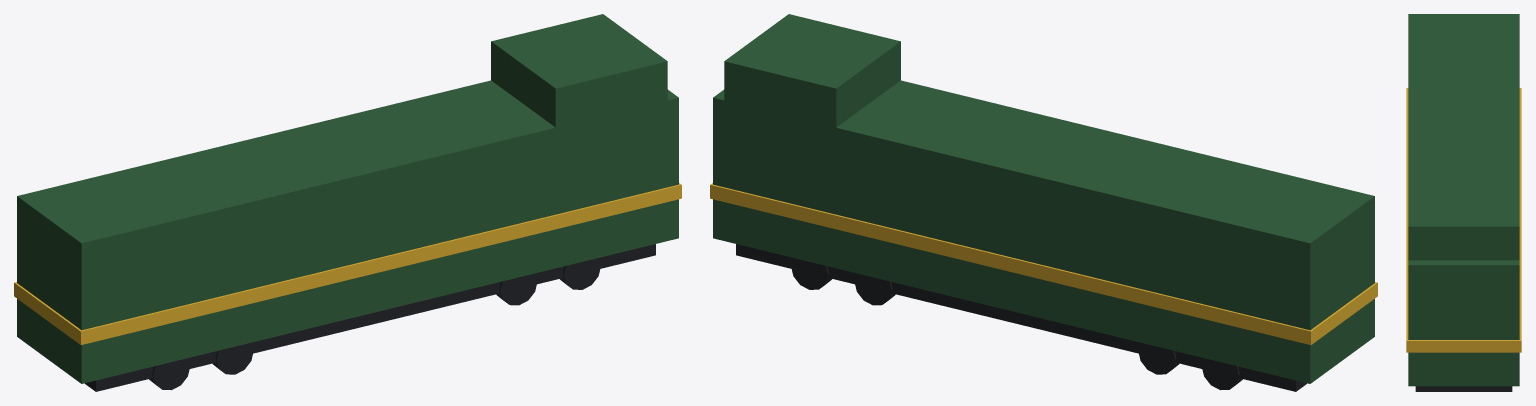
File: locomotive.glb
3 renders of one model, left to right at view 1: azimuth 30°, elevation 25°; view 2: azimuth 150°, elevation 25°; view 3: azimuth 270°, elevation 25°, orthographic. The views are drawn at different scales.
Parts seen in each view (by area): view 1: Locomotive; view 2: Locomotive; view 3: Locomotive.
Part boxes in pixels (bbox=[...]): Locomotive: bbox=[14, 14, 681, 391]; Locomotive: bbox=[710, 14, 1377, 391]; Locomotive: bbox=[1406, 14, 1521, 391].
Bounding box in the file's own units: 16.1 × 5.4 × 3.1.
